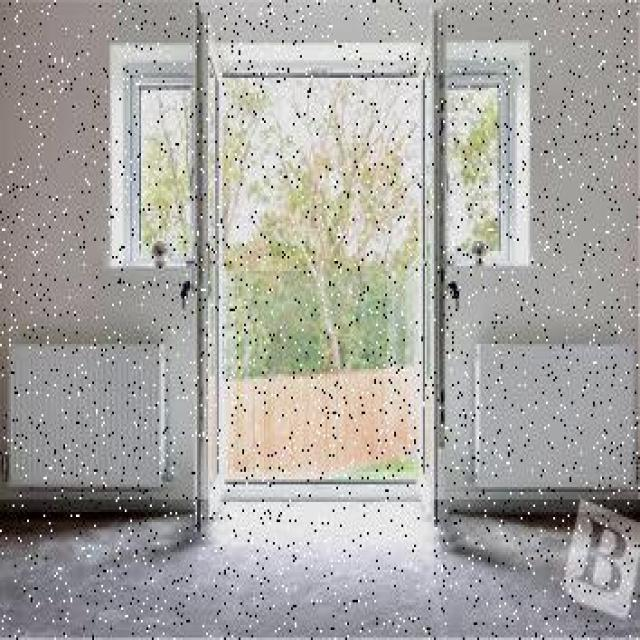Wall: (0, 0, 193, 512), (446, 0, 638, 509), (0, 500, 640, 637), (214, 0, 428, 40)
